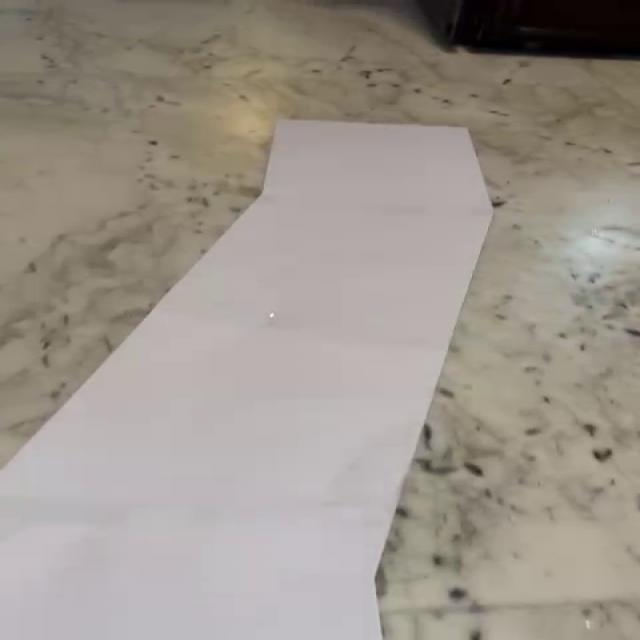road: (2, 121, 492, 640)
